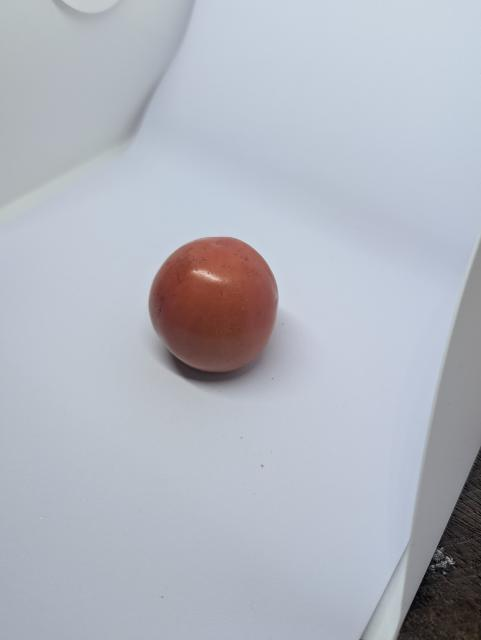red: (139, 228, 283, 383)
